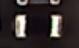COMP: (8, 9, 70, 44)
GAP: (15, 1, 58, 25)
